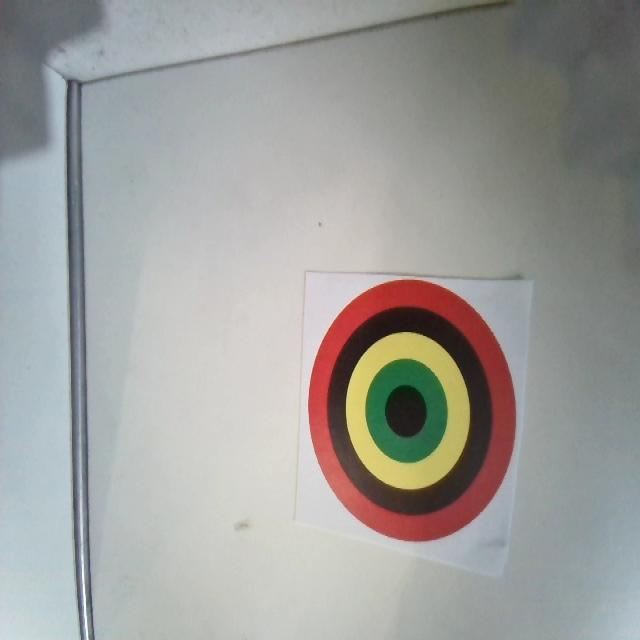cogn: (306, 277, 516, 543)
